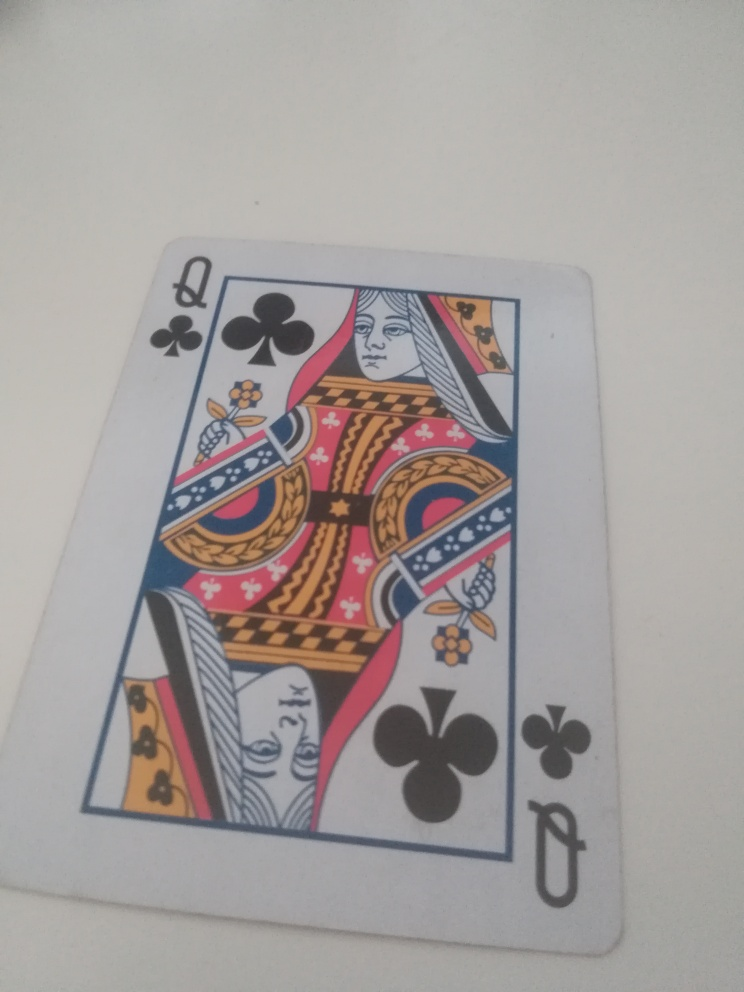QC: (144, 247, 220, 363)
